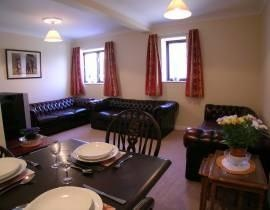chair: (106, 108, 163, 158)
diningtable: (2, 138, 174, 210)
pottedplant: (216, 113, 267, 167)
sofa: (184, 104, 269, 185), (88, 96, 182, 143), (29, 95, 97, 139)
